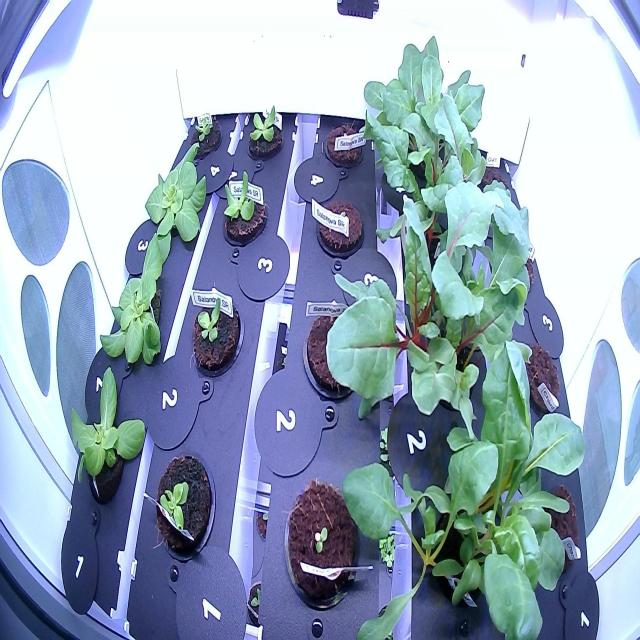germination: (277, 470, 368, 619)
pod: (300, 288, 372, 415), (524, 479, 584, 583), (308, 185, 368, 265), (513, 334, 566, 421), (318, 113, 372, 173)
young: (88, 226, 182, 380), (58, 360, 154, 510), (146, 439, 224, 573), (133, 136, 214, 262), (185, 275, 255, 393), (214, 165, 273, 252), (237, 101, 293, 168), (184, 106, 224, 162)
